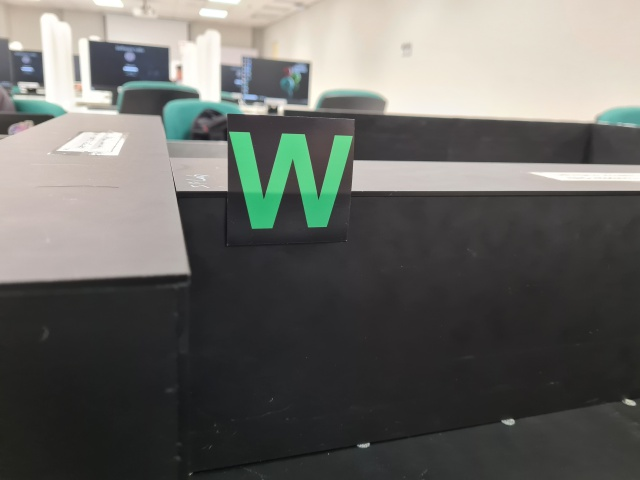alphabet_w: (225, 113, 356, 245)
